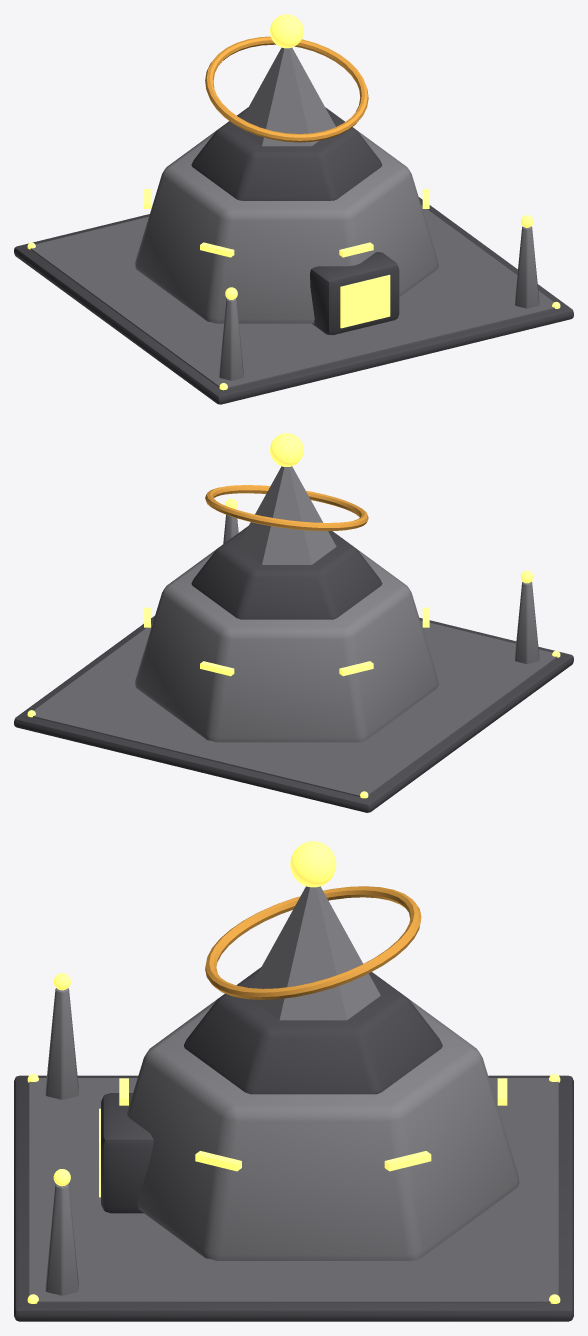
Rendered from cy_rob.glb.
3 renders of one model, top to bottom at view 1: azimuth 30°, elevation 25°; view 2: azimuth 150°, elevation 25°; view 3: azimuth 270°, elevation 25°, orthographic. The views are drawn at different scales.
Visible parts, largest first — view 1: cy_rob, spin_m; view 2: cy_rob, spin_m; view 3: cy_rob, spin_m.
Part boxes in pixels (left/top/right/bottom): cy_rob: left=14, top=14, right=573, bottom=404; spin_m: left=205, top=36, right=368, bottom=142; cy_rob: left=14, top=433, right=573, bottom=812; spin_m: left=205, top=485, right=368, bottom=531; cy_rob: left=14, top=841, right=573, bottom=1321; spin_m: left=205, top=886, right=421, bottom=999.
Bounding box in the file's own units: 2.9 × 2.07 × 2.9.
